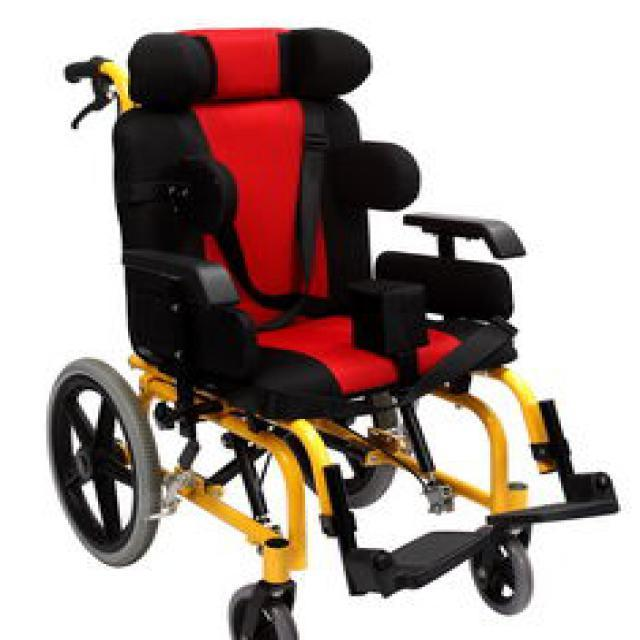wheelchair: (8, 20, 637, 638)
